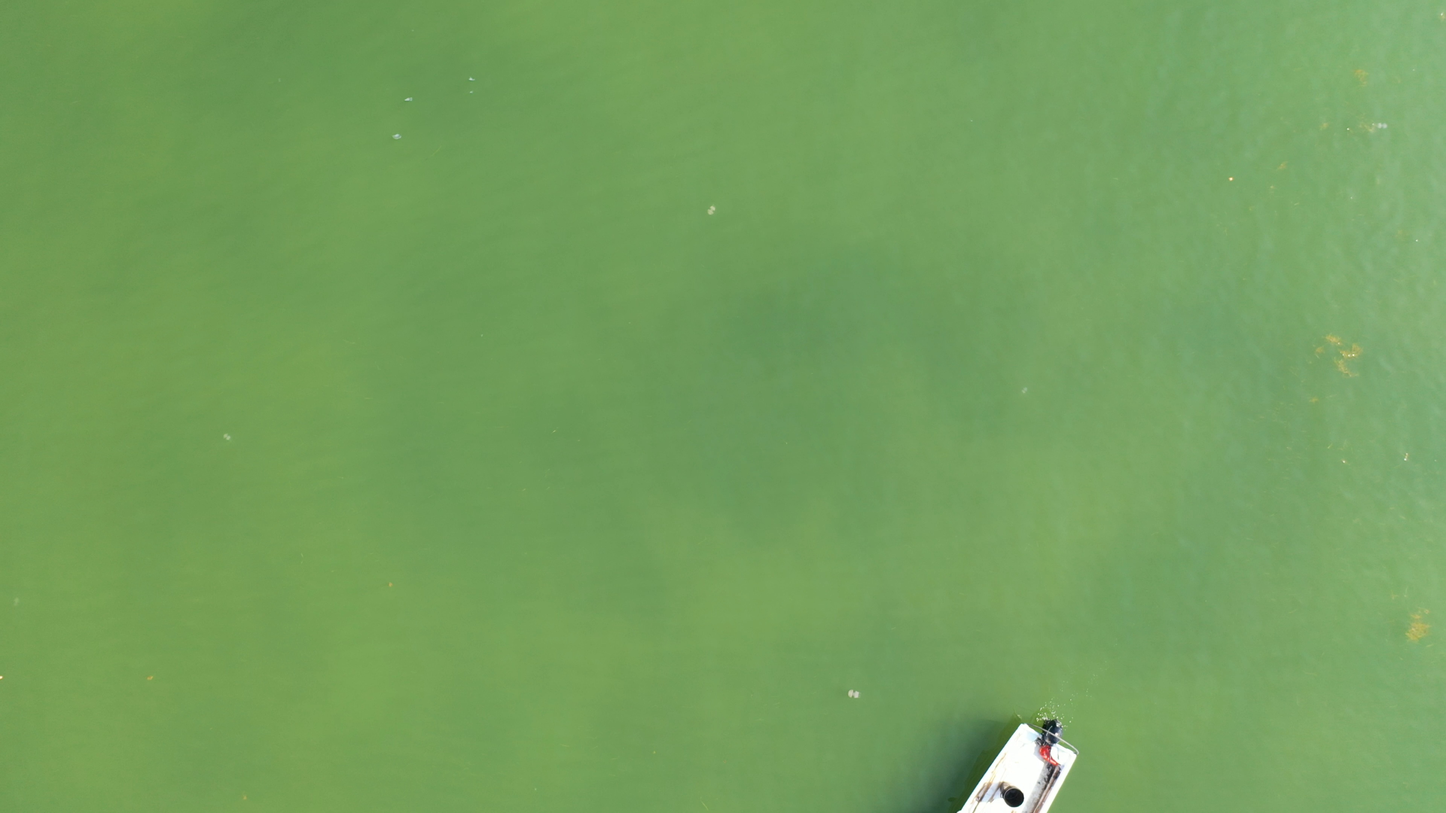meduse: (848, 690, 859, 700), (706, 205, 715, 215), (1378, 121, 1387, 130), (222, 434, 231, 441), (1020, 387, 1028, 394)
